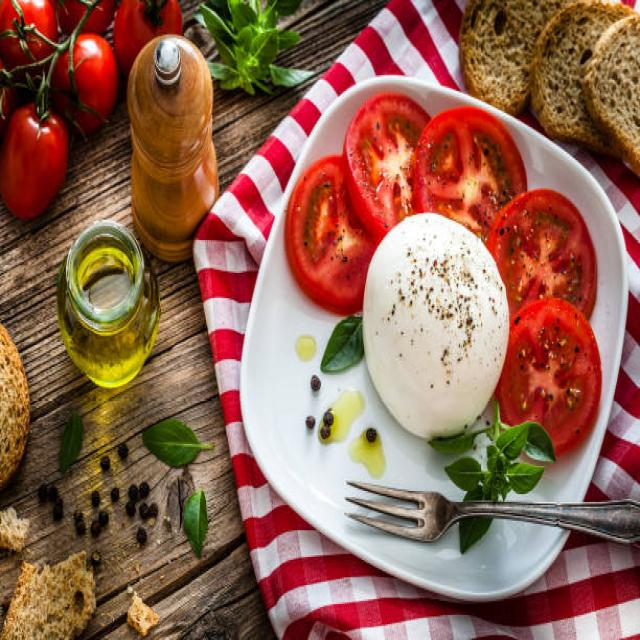Tomato: (486, 301, 612, 486), (483, 172, 595, 316), (423, 103, 527, 235), (352, 97, 438, 230), (288, 165, 366, 311)
